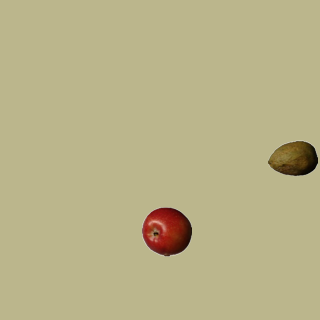Apple Braeburn: (141, 206, 191, 256)
Papaya: (267, 133, 317, 183)
